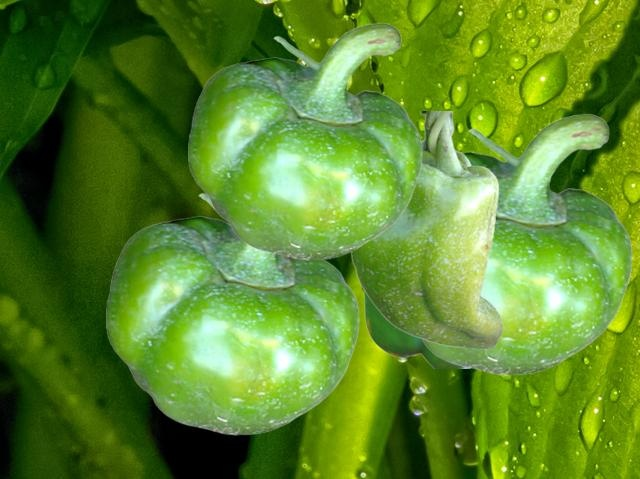bell_pepper: (106, 191, 358, 434), (419, 113, 631, 374), (188, 22, 421, 259), (350, 111, 502, 348), (363, 291, 462, 367)
